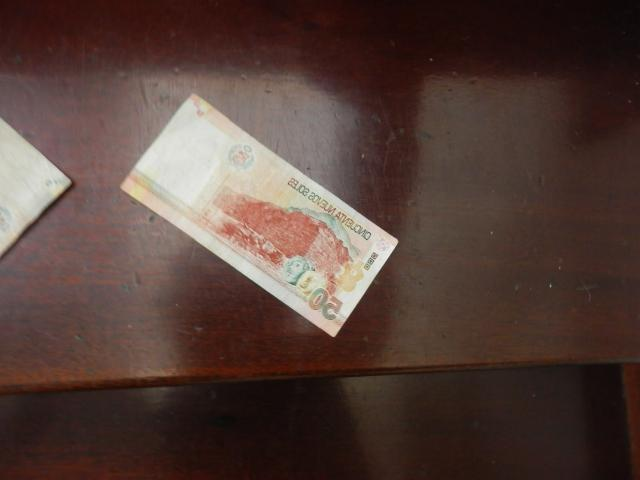B50: (120, 93, 399, 338)
